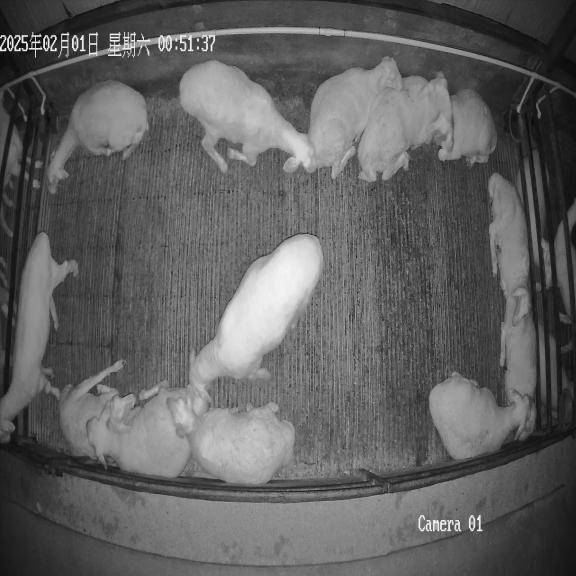lying: (179, 60, 315, 173), (308, 57, 403, 178), (47, 80, 148, 193), (167, 397, 295, 484), (357, 72, 451, 182), (86, 383, 190, 478), (429, 372, 530, 460), (488, 173, 530, 366), (58, 360, 136, 458), (426, 89, 497, 166), (504, 314, 537, 440)
stand: (178, 234, 323, 432), (0, 232, 78, 443)
